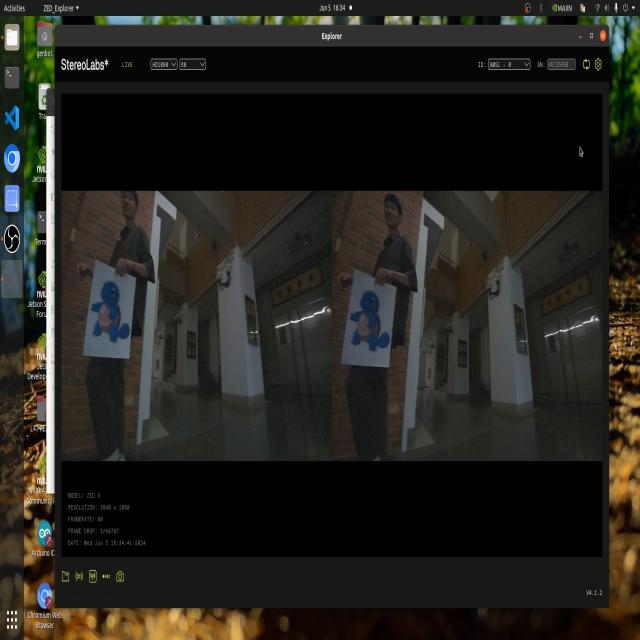blue: (339, 268, 395, 362), (96, 260, 127, 350)
